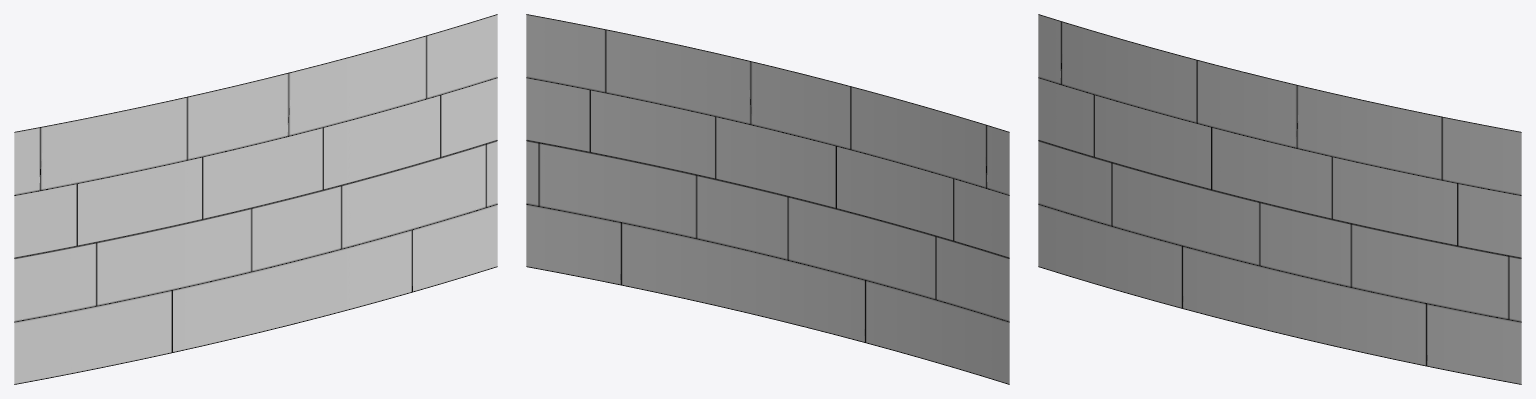
Rendered from WallRound700x350x20cm.FBX.
3 renders of one model, left to right at view 1: azimuth 30°, elevation 25°; view 2: azimuth 150°, elevation 25°; view 3: azimuth 330°, elevation 25°, orthographic.
Visible parts, largest first — view 1: Wall700x350xR20cm; view 2: Wall700x350xR20cm; view 3: Wall700x350xR20cm.
Boxes of the visible parts, x1=… form: Wall700x350xR20cm: x1=14, y1=14, x2=497, y2=384; Wall700x350xR20cm: x1=526, y1=14, x2=1009, y2=384; Wall700x350xR20cm: x1=1038, y1=14, x2=1521, y2=384.
Size of the model in its own units: 700 by 350 by 20.
